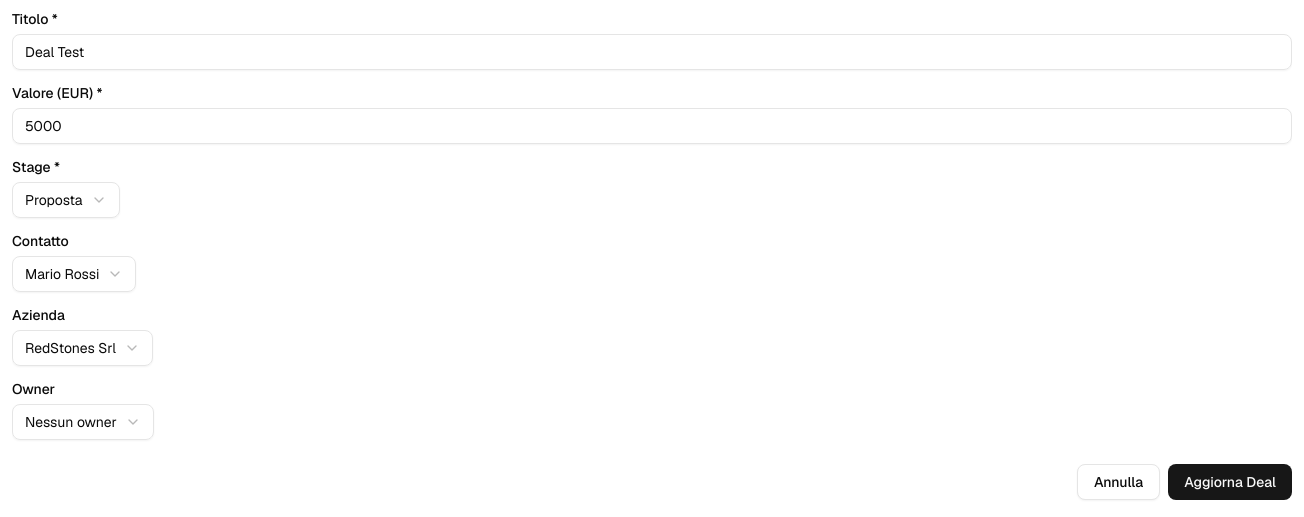
DealForm › clears contact when switching to incompatible company
The image size is (1304, 517).
Click the dropdown labelled "RedStones Srl" at (82, 348), box [12,330,153,366]
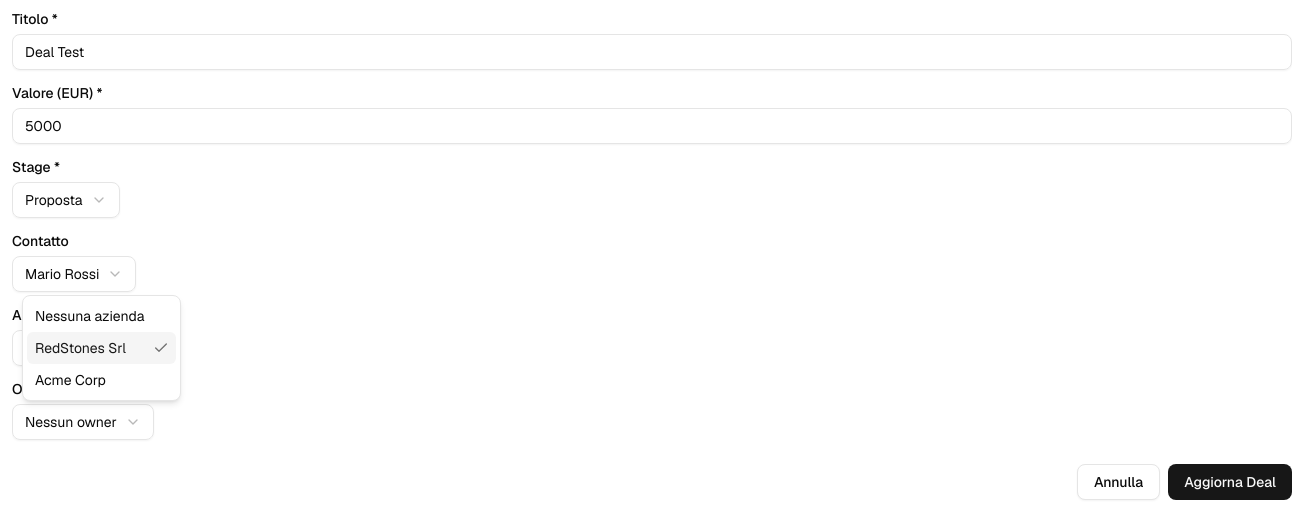
Click the option "Acme Corp" at (70, 380), box [35,371,106,389]
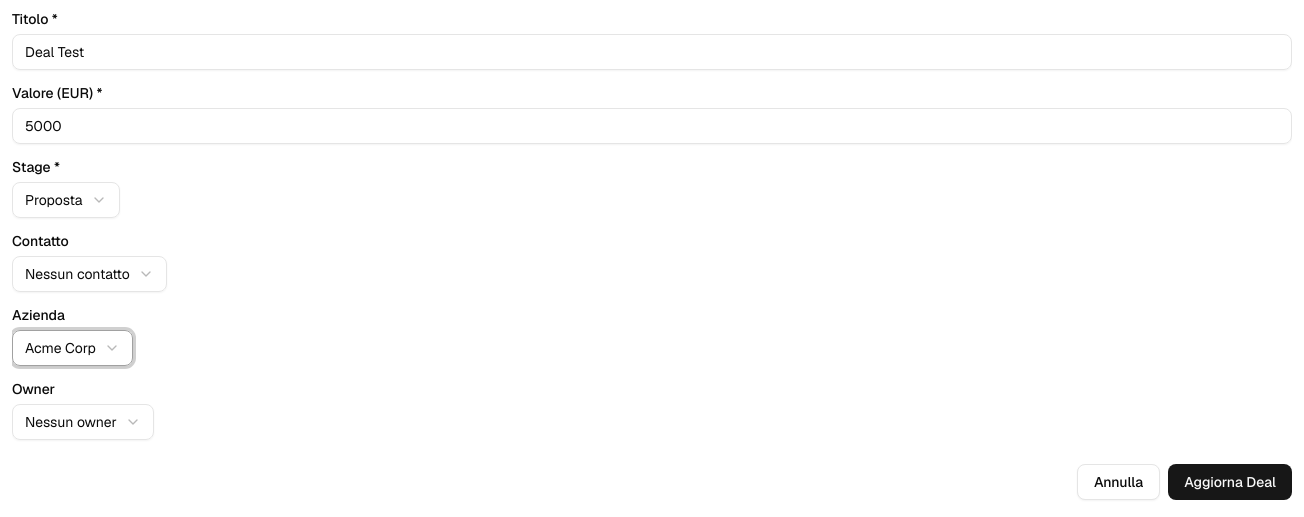
Expected: the dropdown labelled "Nessun contatto" is shown, [12,256,167,292]
